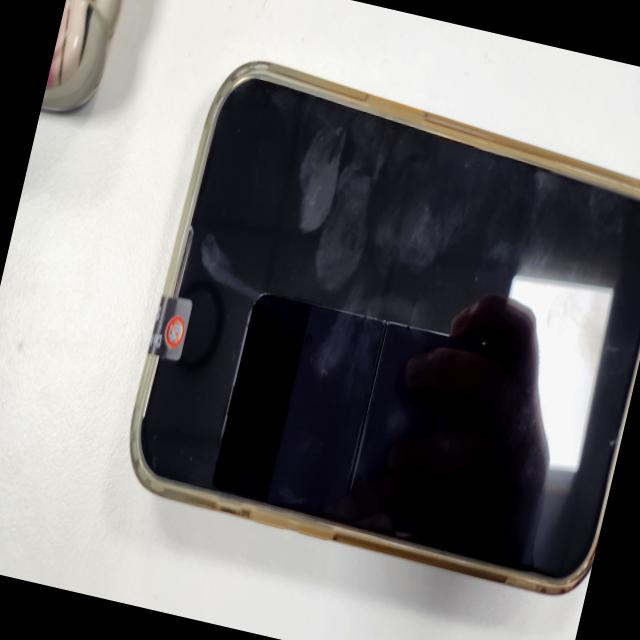phone: (110, 50, 640, 596)
sticker: (145, 290, 194, 359)
